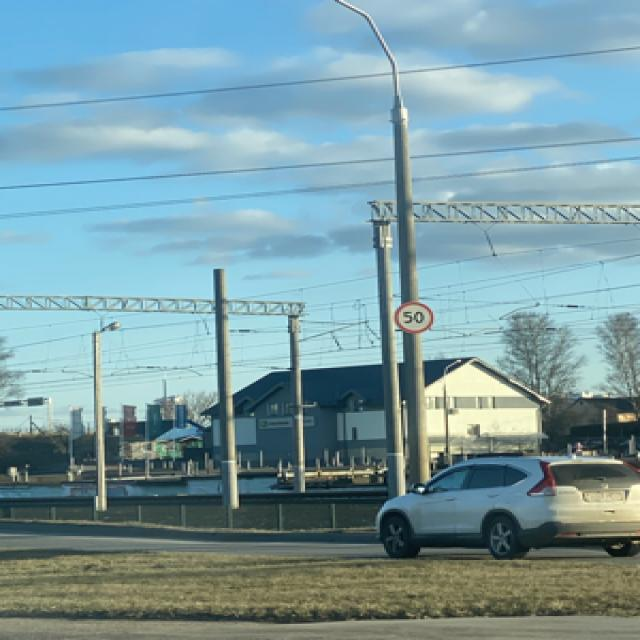speedlimit: (390, 299, 433, 331)
